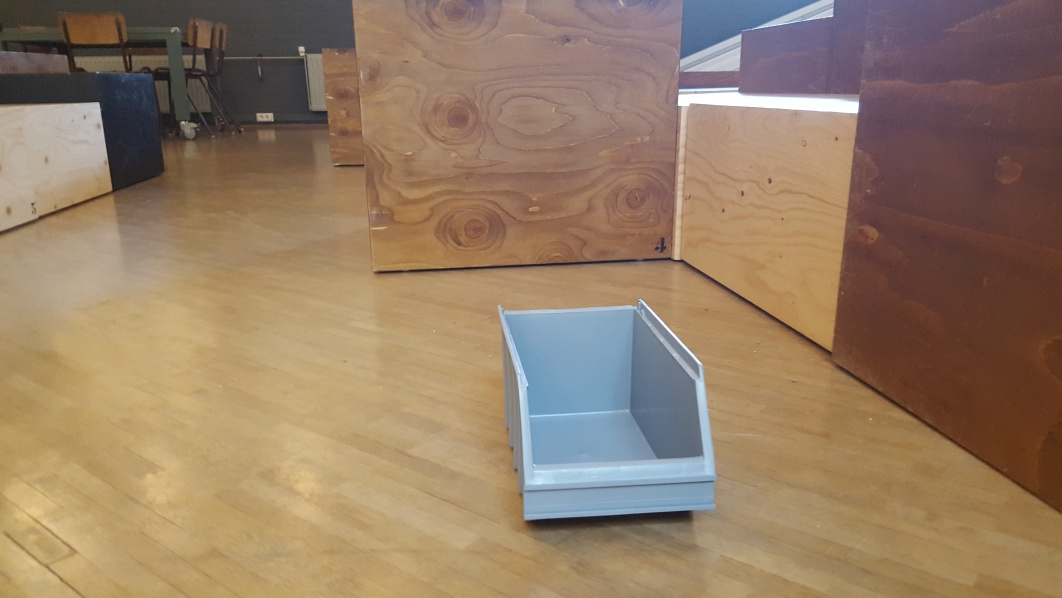tray: (496, 299, 719, 523)
